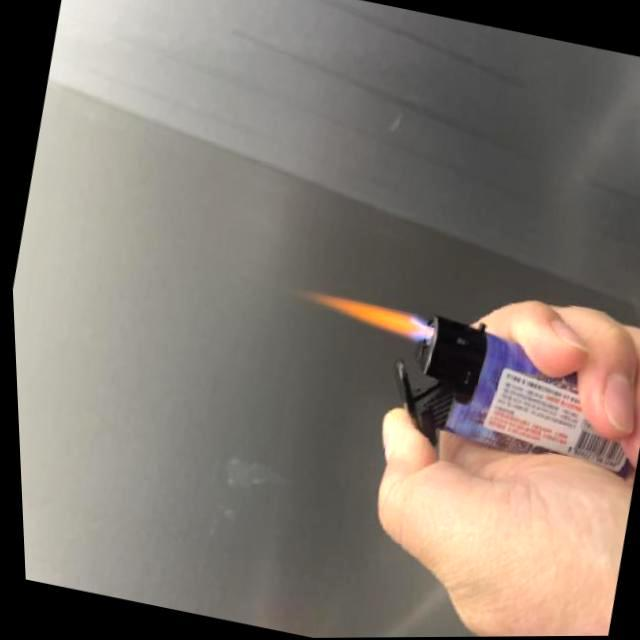fire: (294, 284, 430, 346)
